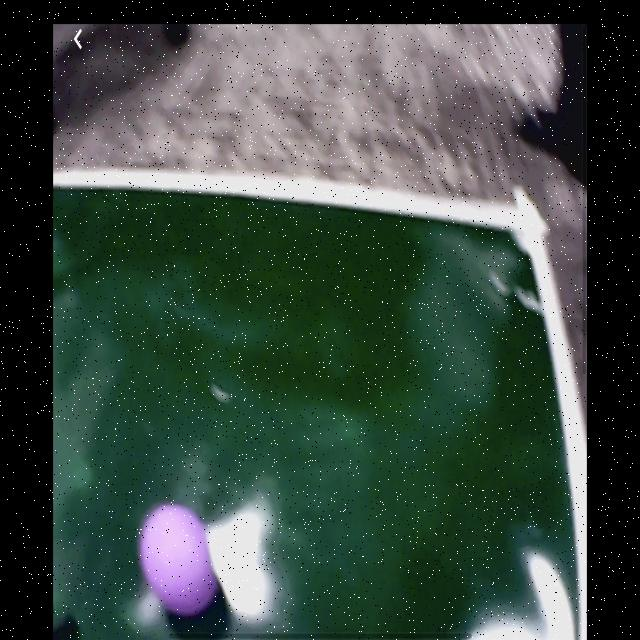ball: (142, 497, 218, 617)
